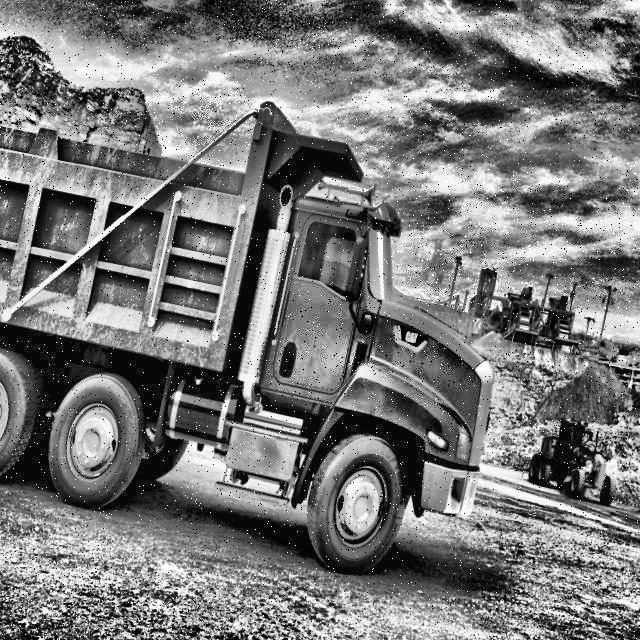dump_truck: (0, 0, 563, 623)
